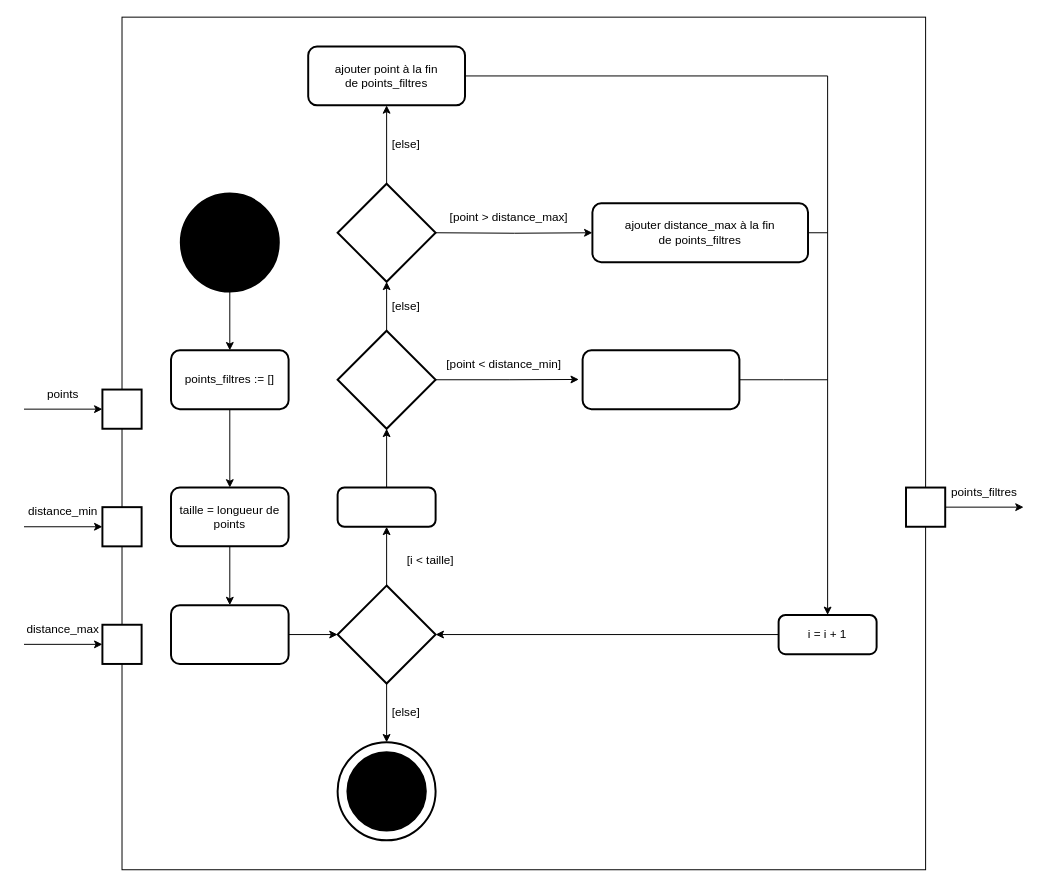
The diagram is 1049 pixels wide and 887 high, and some of its shapes have lost their labels. The centre of each missing label's shape, as x and y in pixels:
"ajouter -1 à la fin de points_filtres" belongs at pixel 660 379.
"i := 0" belongs at pixel 229 634.
"point = points[i]" belongs at pixel 386 506.
